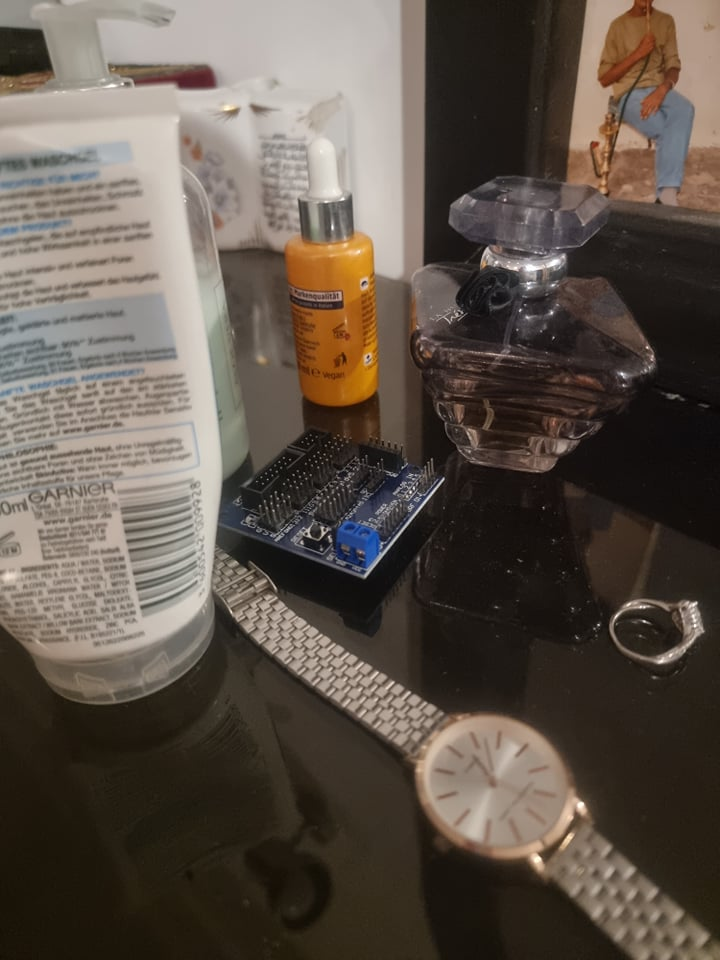SENSOR: (213, 418, 446, 579)
